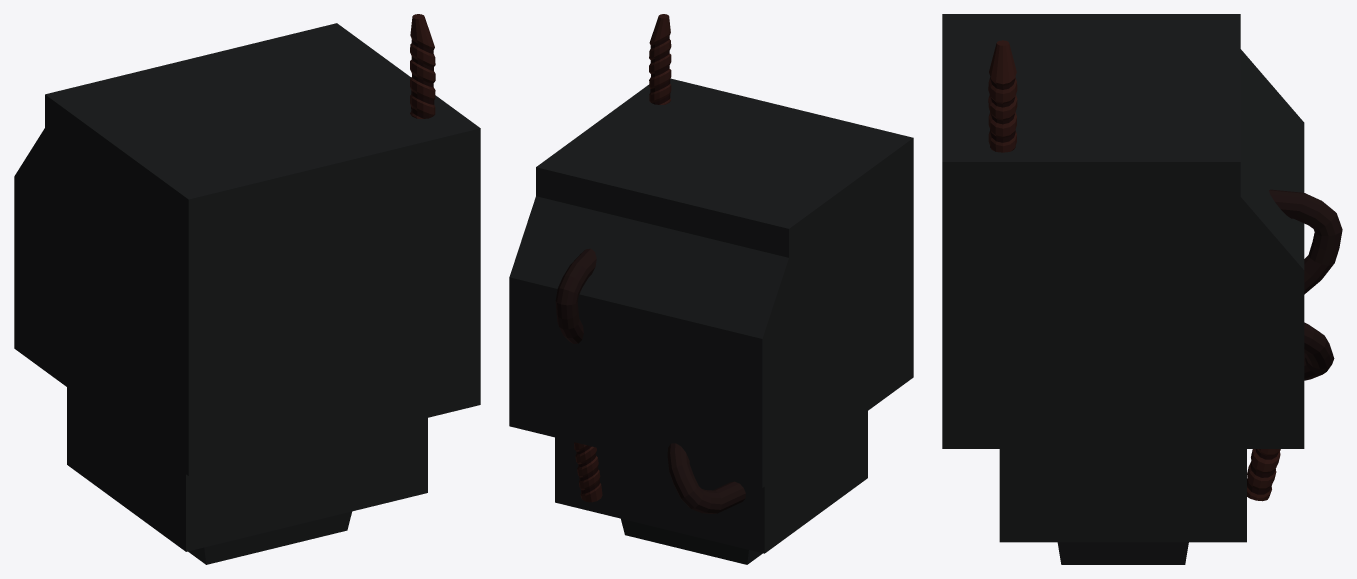
Rendered from Golem_Body.fbx.
3 renders of one model, left to right at view 1: azimuth 30°, elevation 25°; view 2: azimuth 150°, elevation 25°; view 3: azimuth 270°, elevation 25°, orthographic. The views are drawn at different scales.
Visible parts, largest first — view 1: Golem_Body; view 2: Golem_Body; view 3: Golem_Body.
Part boxes in pixels (x1,y1,x2,y2): Golem_Body: [14, 14, 480, 564]; Golem_Body: [509, 14, 913, 564]; Golem_Body: [942, 14, 1342, 564].
Bounding box in the file's own units: 116 × 199 × 133.
